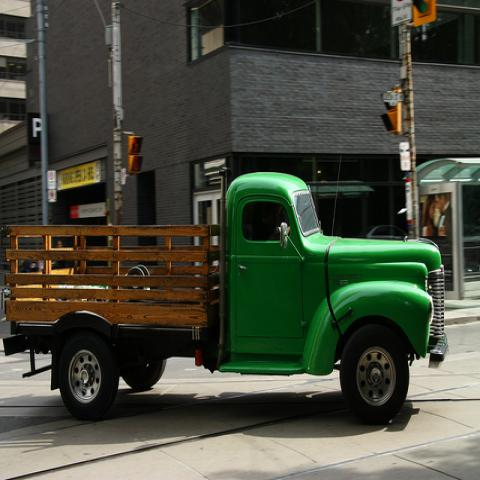truck: (3, 165, 448, 421)
